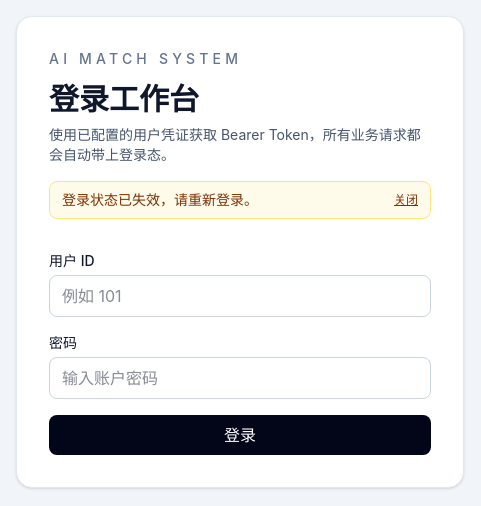
Test: LoginPage › shows and clears unauthorized logout reason
Check: the text "登录状态已失效，请重新登录。" is shown, box [62, 190, 258, 210]
Click the button "关闭": coordinates (406, 200) [394, 192, 418, 208]
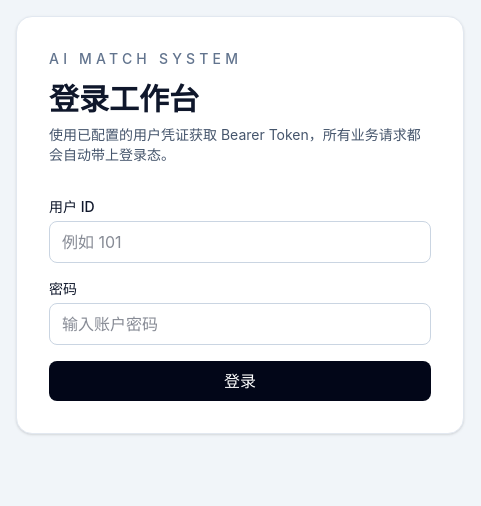
Check: the text "登录状态已失效，请重新登录。" is gone
